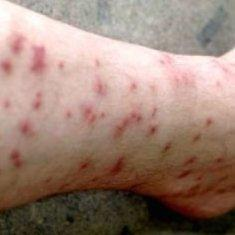Fleas: (108, 107, 146, 140), (77, 100, 100, 126), (183, 185, 234, 196), (6, 30, 26, 54), (31, 46, 45, 71), (171, 72, 195, 86), (109, 157, 125, 177), (182, 152, 198, 170), (159, 56, 181, 69), (8, 150, 22, 169), (94, 76, 106, 95), (145, 123, 156, 139), (211, 157, 227, 168), (32, 93, 42, 110), (20, 121, 34, 133), (190, 130, 202, 143), (1, 60, 11, 74), (177, 170, 191, 180), (129, 80, 138, 94), (159, 143, 167, 158), (149, 106, 158, 119), (149, 82, 156, 96), (1, 99, 10, 107)
